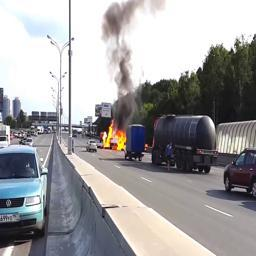fire: (102, 119, 127, 151)
